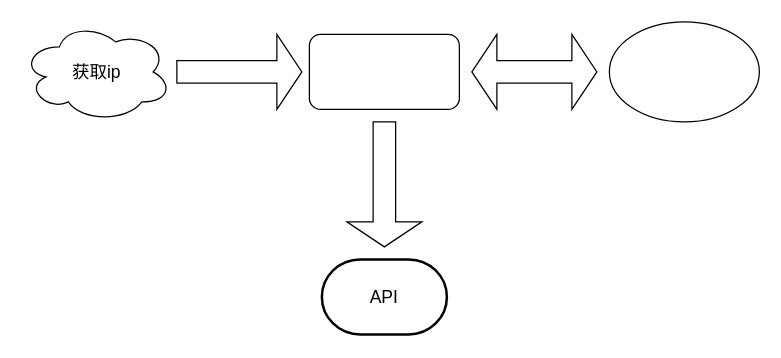
Some shapes in this 781 by 358 pixel diagram are drawn without their labels. The shapes that lost their labels are listed below. From the top down, each one's box as (x1, y1, x2, y2) in pixels, then its label:
(308, 33, 459, 109): 存储
(608, 21, 759, 122): 检测
